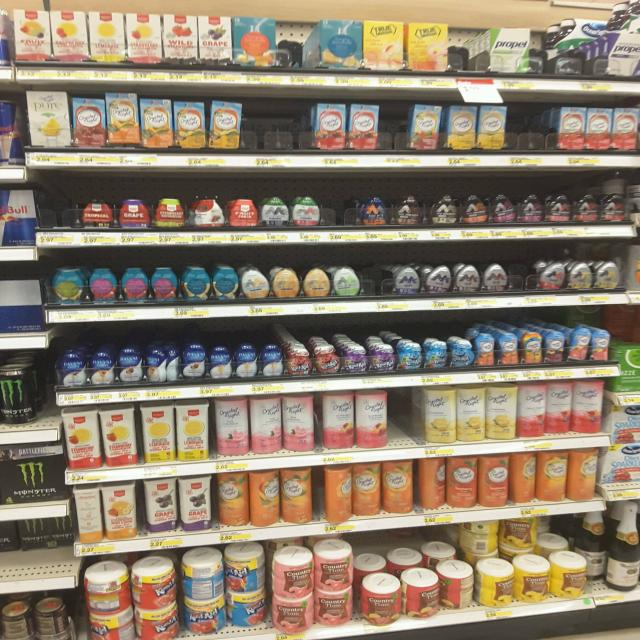void: (513, 104, 555, 170), (281, 17, 318, 85), (279, 96, 310, 170), (451, 23, 484, 87), (44, 191, 79, 250), (391, 389, 420, 459), (248, 100, 274, 172), (384, 102, 409, 170), (322, 193, 354, 244), (364, 268, 392, 312), (513, 261, 536, 305), (623, 261, 640, 305)
